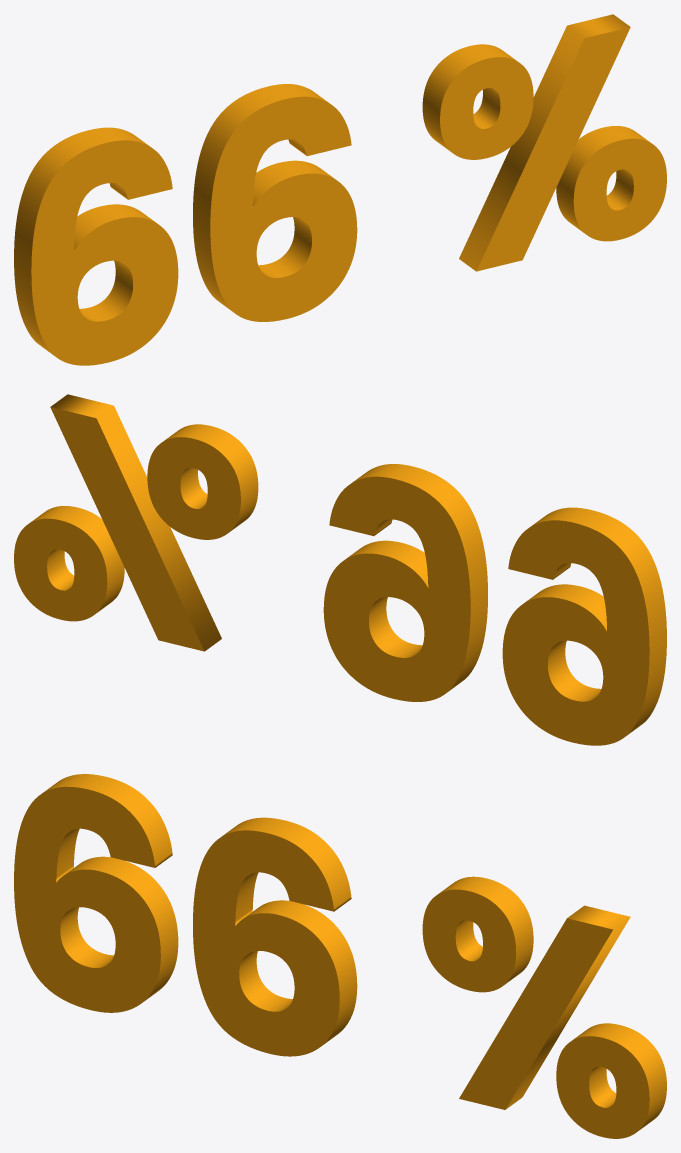
The model's file is yuzdeyazi2.gltf.
3 views of the same model, one above another, from view 1: azimuth 30°, elevation 25°; view 2: azimuth 150°, elevation 25°; view 3: azimuth 330°, elevation 25° (orthographic).
Parts seen in each view (by area): view 1: simsekyazi.002; view 2: simsekyazi.002; view 3: simsekyazi.002.
Part boxes in pixels (x1=…): simsekyazi.002: x1=14, y1=14, x2=666, y2=365; simsekyazi.002: x1=14, y1=394, x2=666, y2=745; simsekyazi.002: x1=14, y1=774, x2=666, y2=1138.
Size of the model in its own units: 0.0958 by 0.032 by 0.00455.
